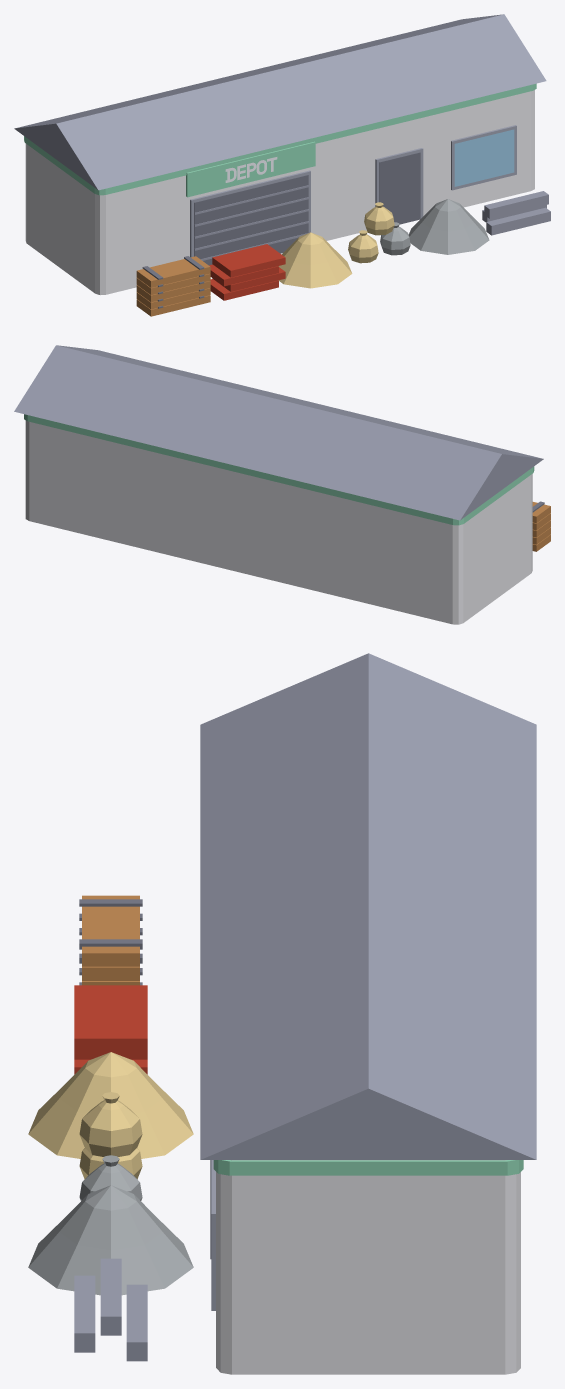
The model's file is depot-2x1-t6-tone-a.glb.
3 views of the same model, one above another, from view 1: azimuth 30°, elevation 25°; view 2: azimuth 150°, elevation 25°; view 3: azimuth 270°, elevation 25° (orthographic). The views are drawn at different scales.
Visible parts, largest first — view 1: depot-2x1-t6-tone-a; view 2: depot-2x1-t6-tone-a; view 3: depot-2x1-t6-tone-a.
Part boxes in pixels (left/top/right/bottom): depot-2x1-t6-tone-a: left=14, top=14, right=550, bottom=316; depot-2x1-t6-tone-a: left=14, top=345, right=550, bottom=624; depot-2x1-t6-tone-a: left=28, top=653, right=536, bottom=1374.
Size of the model in its own units: 1.96 by 0.61 by 0.9676.
Materials: 1 (1 with a texture image).
